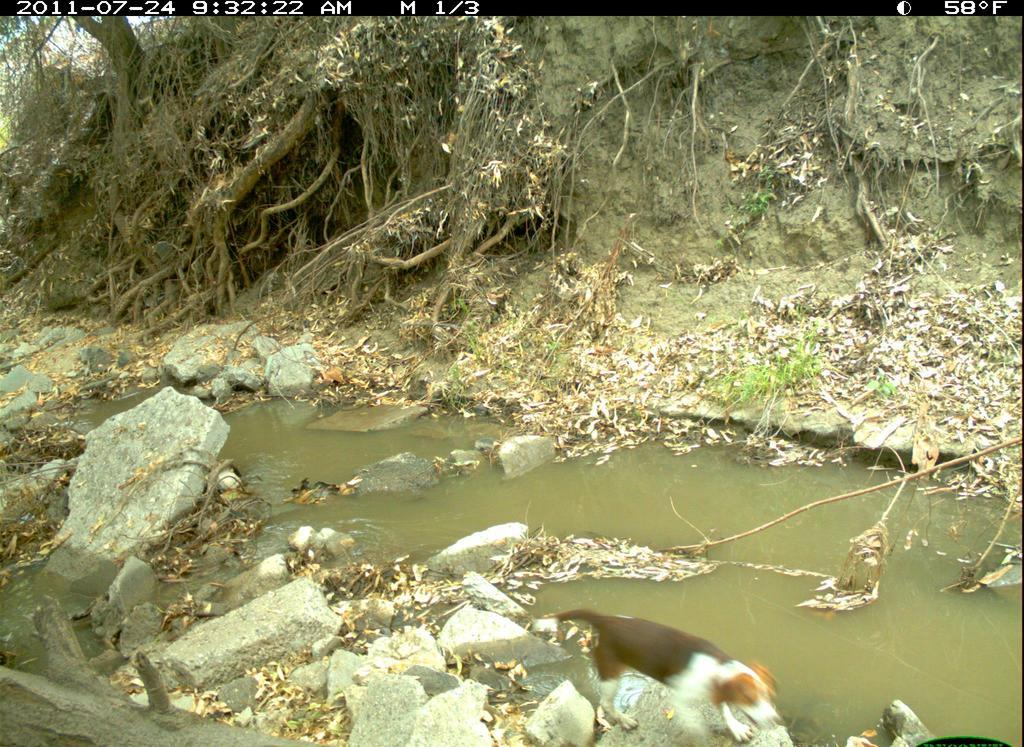dog: (538, 594, 797, 747)
